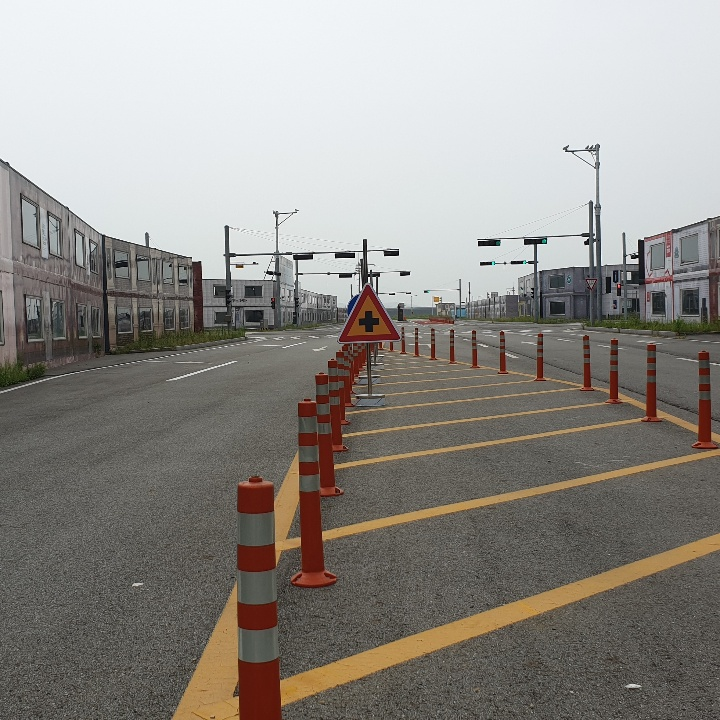inter: (356, 307, 381, 336)
